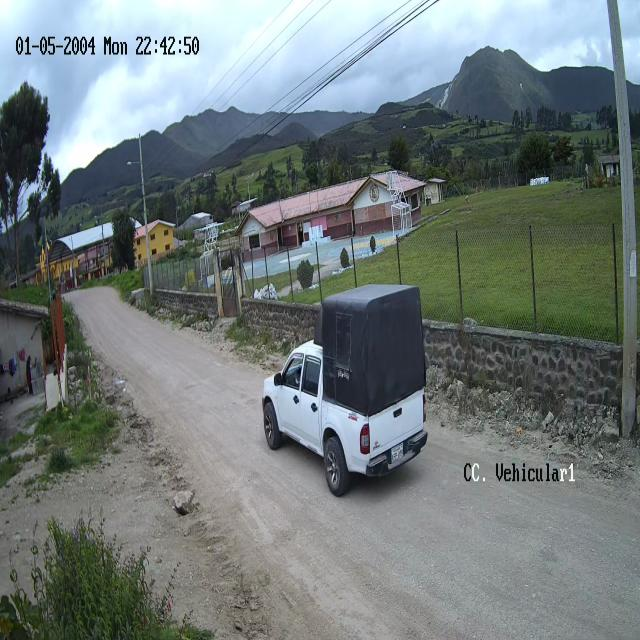CMT: (263, 286, 429, 498)
